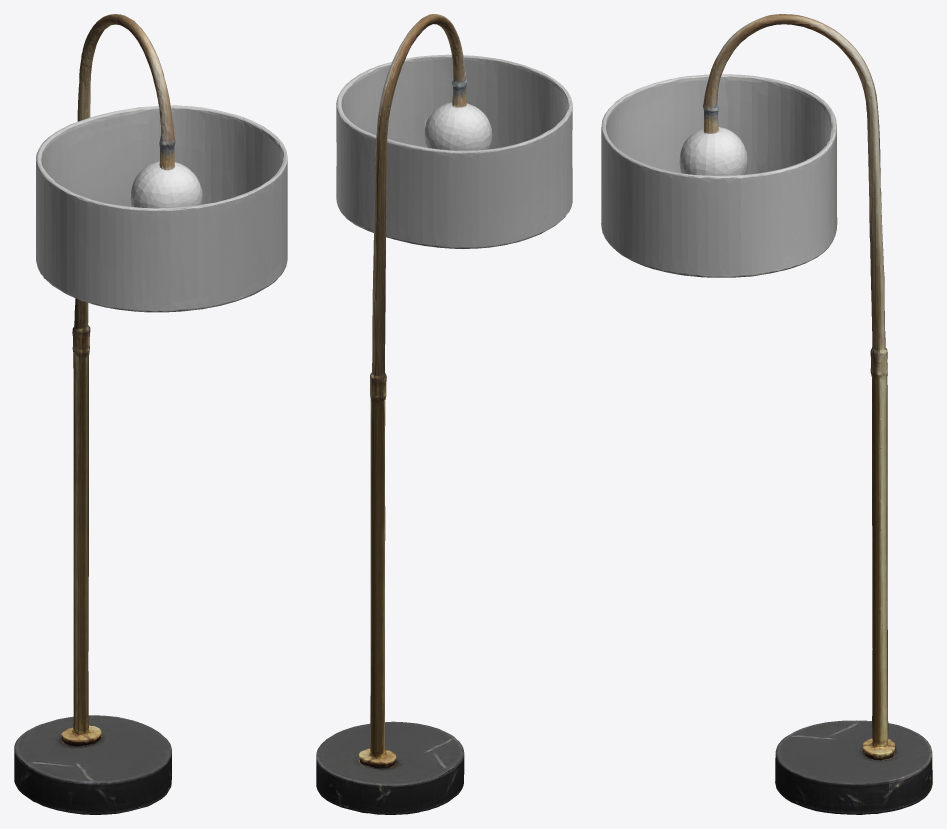
File: modern_lamp.glb
3 renders of one model, left to right at view 1: azimuth 30°, elevation 25°; view 2: azimuth 150°, elevation 25°; view 3: azimuth 270°, elevation 25°, orthographic. The views are drawn at different scales.
Parts seen in each view (by area): view 1: world; view 2: world; view 3: world.
Boxes of the visible parts, x1,y1,x2,y2 form: world: (14, 14, 287, 814); world: (316, 14, 572, 814); world: (601, 14, 932, 814).
Bounding box in the file's own units: 0.2897 × 1 × 0.3911.
1 material, 1 textured.
